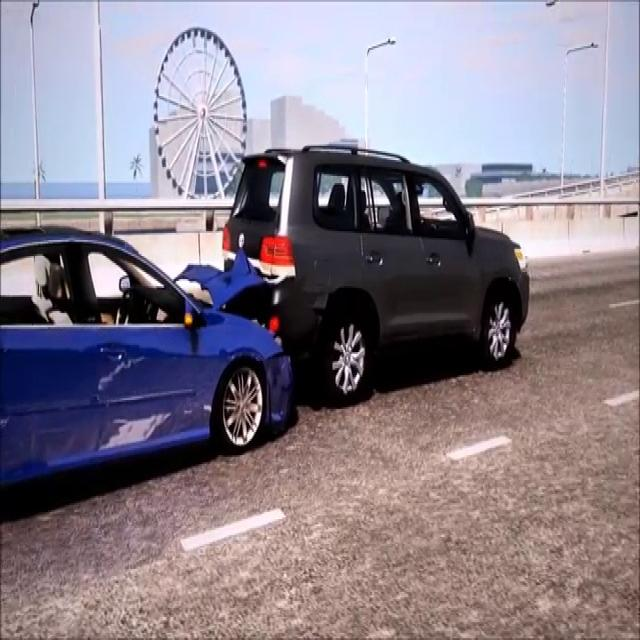moderate: (0, 128, 539, 490)
